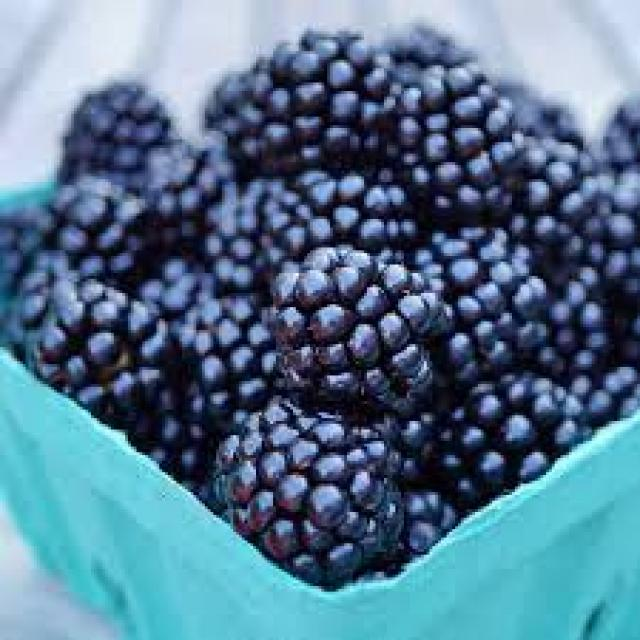organic waste: (216, 398, 401, 575), (267, 250, 438, 407), (29, 279, 180, 404), (242, 34, 392, 151), (404, 71, 512, 222), (432, 236, 546, 378), (436, 372, 578, 483), (262, 159, 401, 262), (168, 276, 267, 398), (60, 82, 170, 185), (31, 188, 151, 276), (552, 165, 637, 287), (504, 119, 580, 239), (0, 224, 82, 335), (210, 173, 293, 276), (140, 133, 217, 244), (489, 74, 592, 148), (543, 262, 612, 372), (102, 387, 268, 432), (145, 415, 233, 495), (134, 245, 239, 310), (208, 71, 282, 159), (575, 358, 637, 429), (393, 28, 472, 82), (389, 472, 444, 543), (603, 97, 637, 168)
